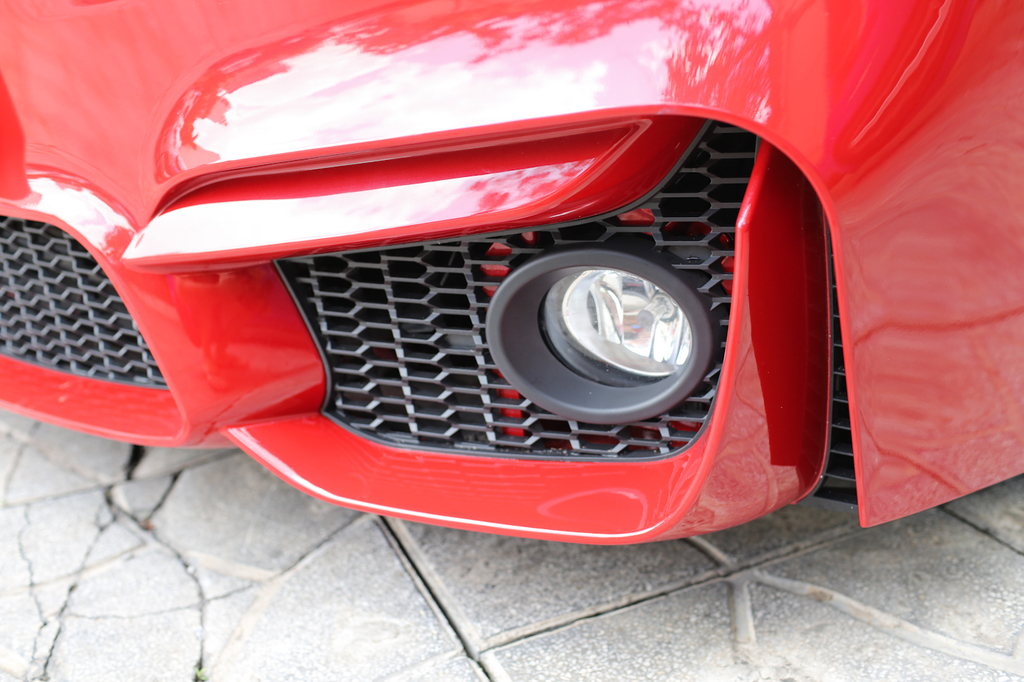Car: (0, 0, 1023, 528)
